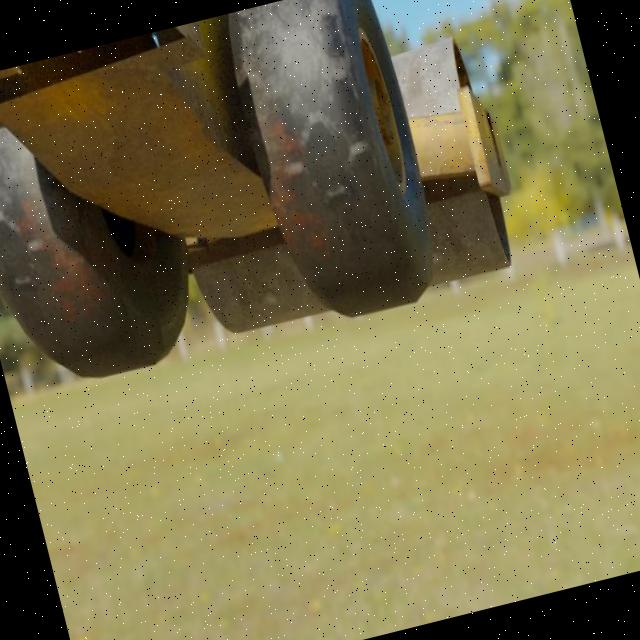Roller: (0, 0, 533, 404)
